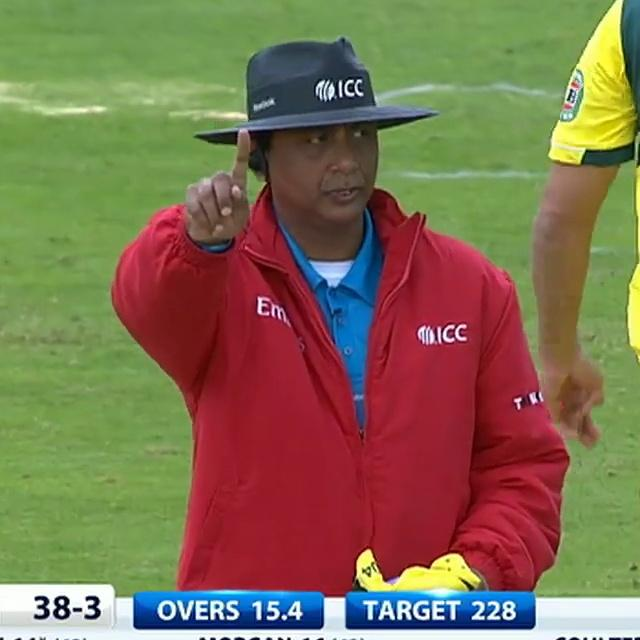umpire: (94, 5, 596, 596)
